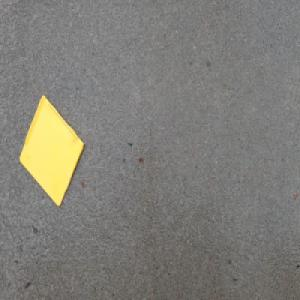PlasticPart: (17, 92, 85, 207)
